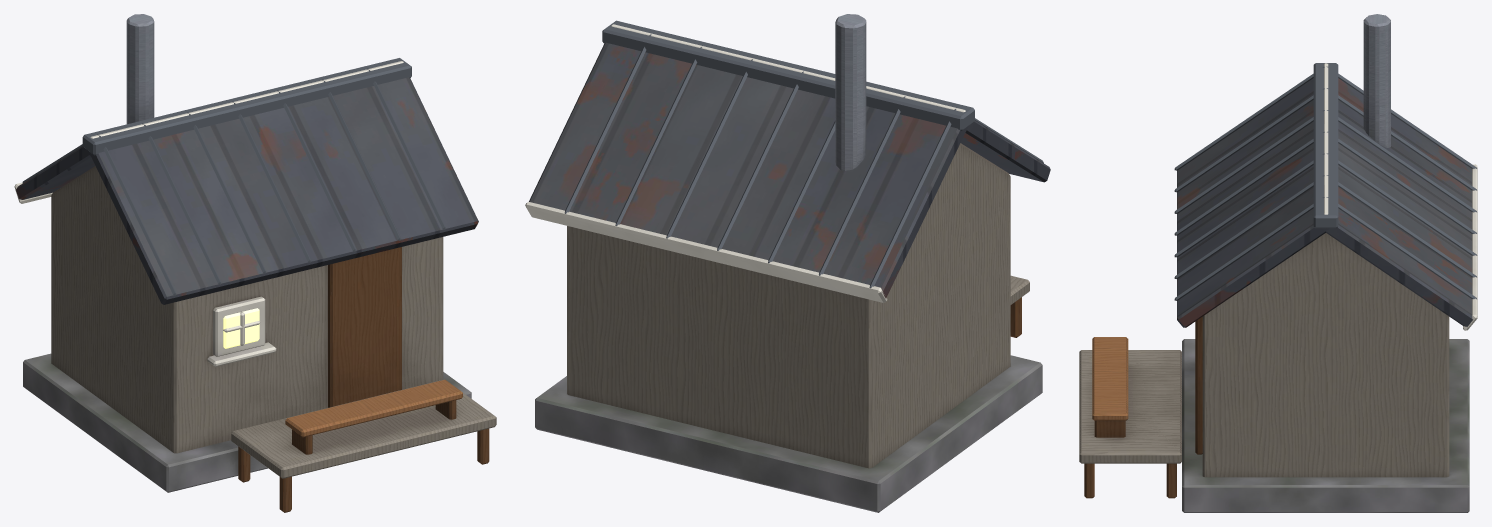
File: bastu_tex.glb
3 renders of one model, left to right at view 1: azimuth 30°, elevation 25°; view 2: azimuth 150°, elevation 25°; view 3: azimuth 270°, elevation 25°, orthographic. The views are drawn at different scales.
Visible parts, largest first — view 1: bastu; view 2: bastu; view 3: bastu.
Part boxes in pixels (x1,y1,x2,y2): bastu: (14, 14, 496, 512); bastu: (525, 14, 1050, 512); bastu: (1079, 14, 1477, 512).
Bounding box in the file's own units: 3.55 × 4.1 × 3.88.
Materials: 9 (7 with a texture image).
